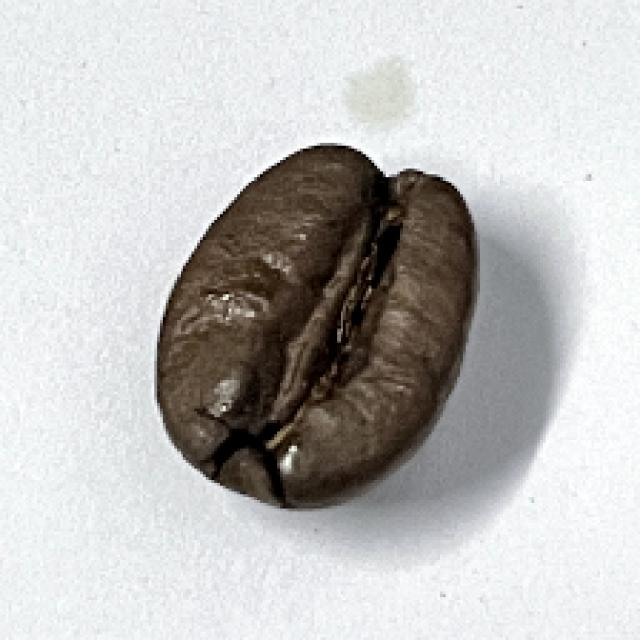bean: (152, 142, 484, 516)
